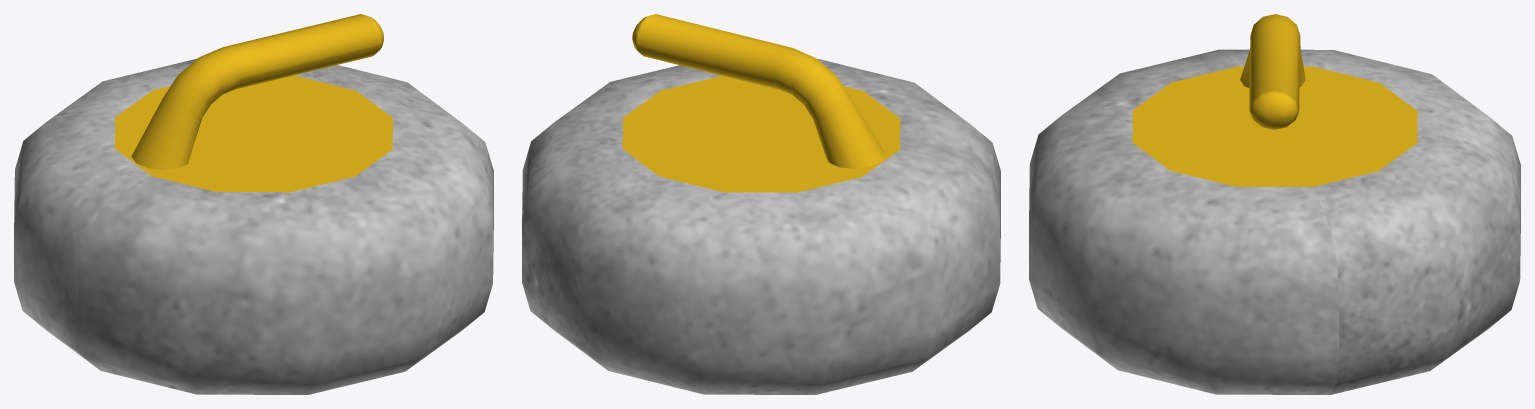
File: CurlingYellow.fbx
The picture shows the model from 3 angles, left to right: view 1: azimuth 30°, elevation 25°; view 2: azimuth 150°, elevation 25°; view 3: azimuth 270°, elevation 25°; orthographic projection. The views are drawn at different scales.
Visible parts, largest first — view 1: Curling-Yellow; view 2: Curling-Yellow; view 3: Curling-Yellow.
Part boxes in pixels (left/top/right/bottom): Curling-Yellow: left=14, top=14, right=493, bottom=394; Curling-Yellow: left=522, top=14, right=1000, bottom=394; Curling-Yellow: left=1029, top=14, right=1520, bottom=394.
Size of the model in its own units: 28.16 by 17.6 by 28.16.
